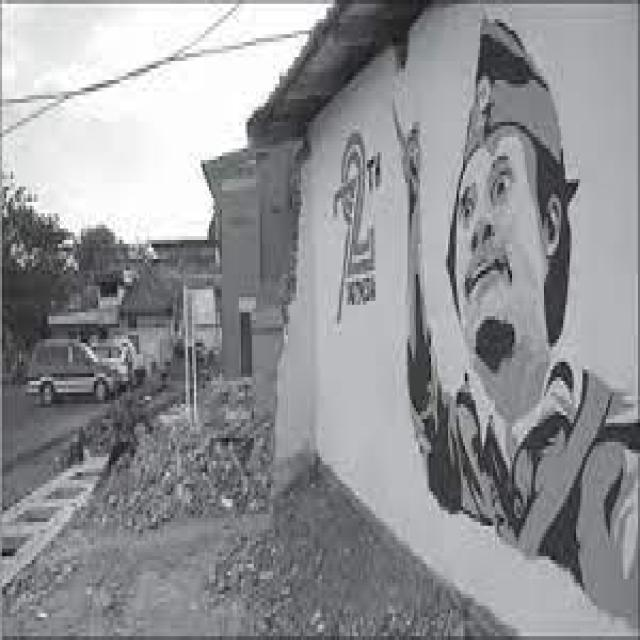-: (392, 8, 640, 627), (332, 132, 383, 323)
